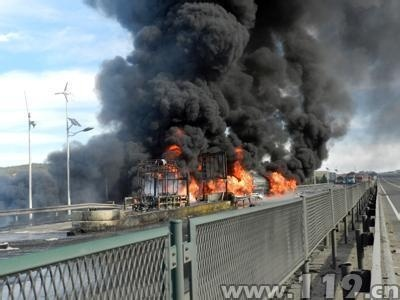fire: (164, 144, 255, 199), (269, 170, 297, 193)
